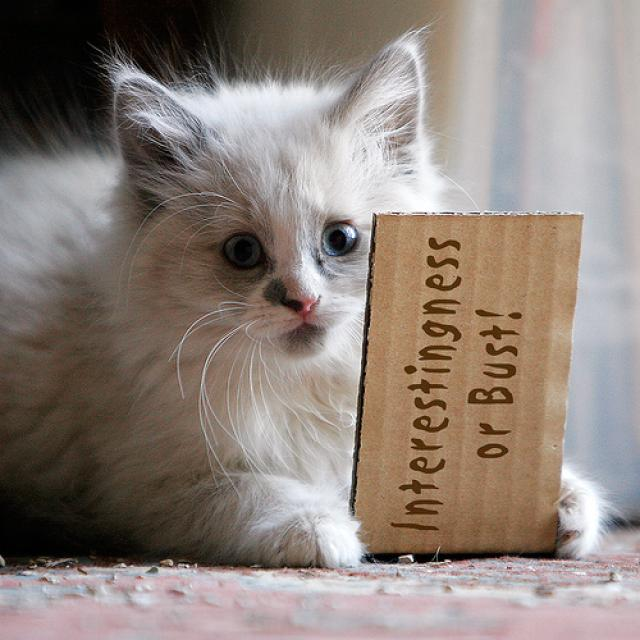left eye: (318, 218, 359, 257)
